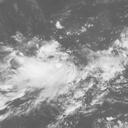cyclone: (30, 46, 95, 105)
